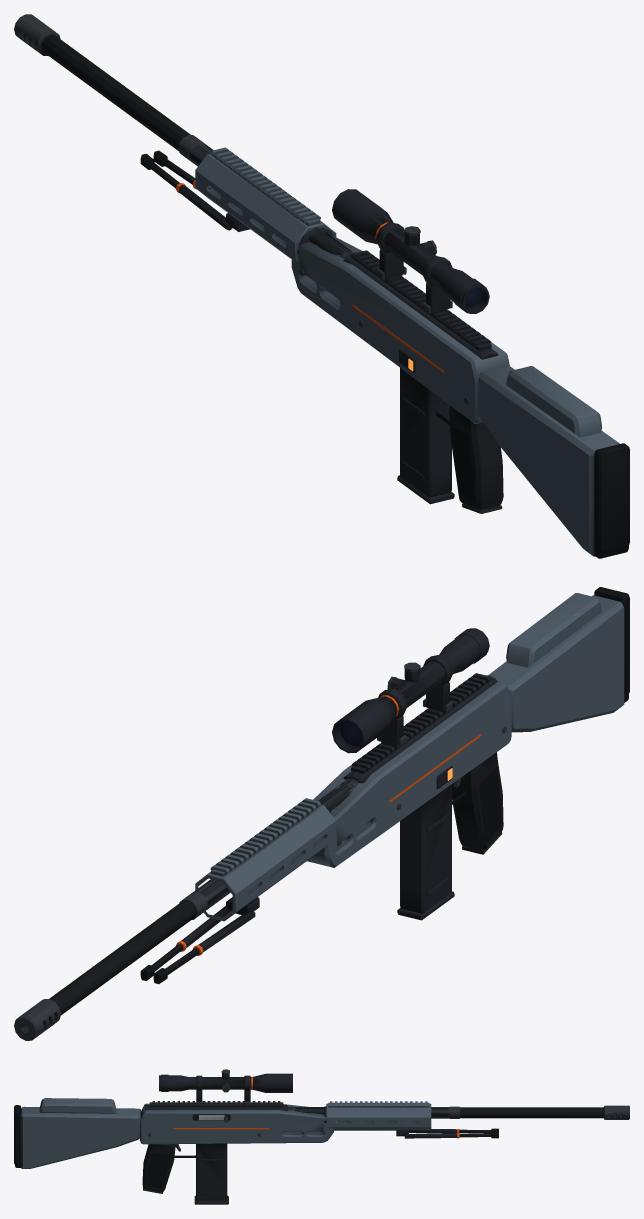
File: barrett-m82.glb
3 renders of one model, top to bottom at view 1: azimuth 30°, elevation 25°; view 2: azimuth 150°, elevation 25°; view 3: azimuth 270°, elevation 25°, orthographic. The views are drawn at different scales.
Parts seen in each view (by area): view 1: body_frame, body_frame2, body_steel, mag_frame2, body_rubber, body_polymer; view 2: body_frame, body_frame2, body_steel, mag_frame2, body_polymer, body_rubber; view 3: body_frame, body_frame2, body_steel, mag_frame2, body_rubber, body_polymer, body_accent.
Boxes of the visible parts, x1=… form: body_frame: x1=195, y1=147, x2=619, y2=556; body_frame2: x1=178, y1=185, x2=502, y2=513; body_steel: x1=14, y1=14, x2=468, y2=404; mag_frame2: x1=397, y1=368, x2=454, y2=504; body_rubber: x1=140, y1=150, x2=629, y2=558; body_polymer: x1=449, y1=406, x2=503, y2=509; body_frame: x1=195, y1=593, x2=624, y2=921; body_frame2: x1=181, y1=628, x2=502, y2=952; body_steel: x1=14, y1=662, x2=506, y2=1040; mag_frame2: x1=397, y1=784, x2=454, y2=920; body_polymer: x1=452, y1=752, x2=503, y2=850; body_rubber: x1=140, y1=587, x2=629, y2=984; body_frame: x1=21, y1=1098, x2=431, y2=1168; body_frame2: x1=143, y1=1073, x2=457, y2=1193; body_steel: x1=148, y1=1069, x2=629, y2=1151; mag_frame2: x1=194, y1=1143, x2=228, y2=1204; body_rubber: x1=14, y1=1105, x2=498, y2=1187; body_polymer: x1=142, y1=1144, x2=175, y2=1191; body_accent: x1=173, y1=1076, x2=459, y2=1138.
Bounding box in the file's own units: 0.068 × 0.302 × 1.29.
